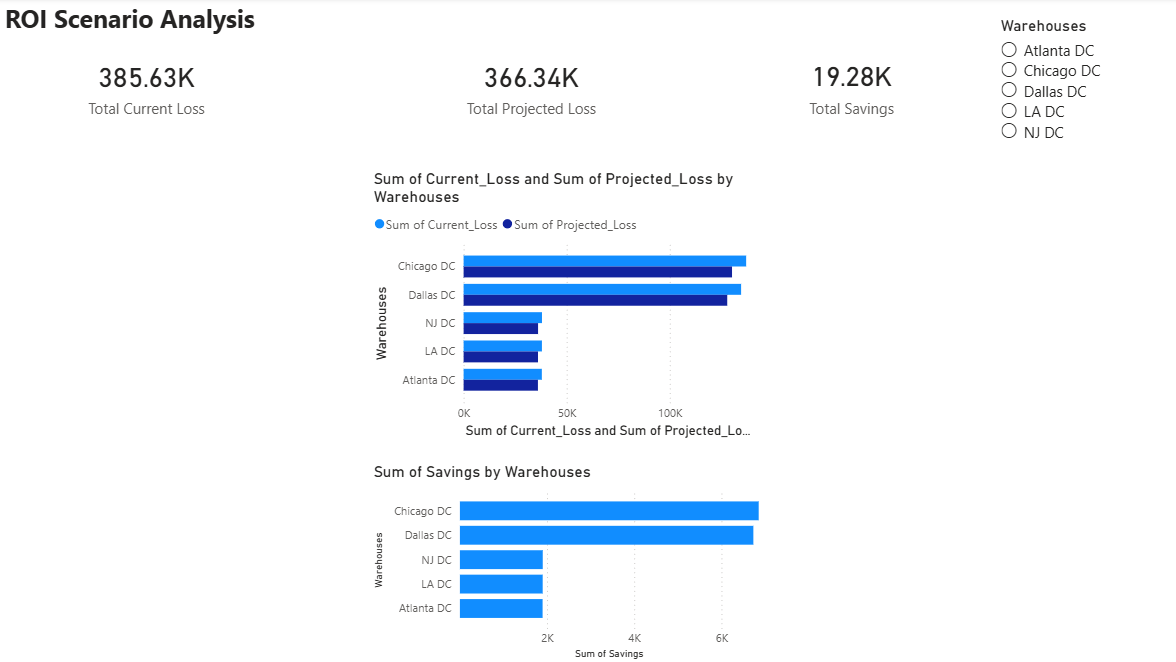

Layout of this report page (visuals, bound fields, positions):
{"tool":"powerbi","page":{"name":"ROI Scenario","canvas":[1280,720],"ordinal":4},"visuals":[{"type":"textbox","box":[9.7,0,280.1,50.2],"z":0},{"type":"card","fields":{"Values":["ROI_Data.Total Current Loss"]},"box":[63.1,50.2,208.9,90.7],"z":1000},{"type":"card","fields":{"Values":["ROI_Data.Total Projected Loss"]},"box":[464.7,50.2,236.4,90.7],"z":2000},{"type":"barChart","fields":{"Y":["Sum(ROI_Data.Current_Loss)","Sum(ROI_Data.Projected_Loss)"],"Category":["ROI_Data.Warehouses"]},"box":[408,186.2,432.3,294.7],"z":3000},{"type":"barChart","fields":{"Category":["ROI_Data.Warehouses"],"Y":["Sum(ROI_Data.Savings)"]},"box":[408,502,432.3,218.6],"z":4000},{"type":"card","fields":{"Values":["ROI_Data.Total Savings"]},"box":[824.2,37.2,208.9,115],"z":5000},{"type":"listSlicer","fields":{"Values":["ROI_Data.Warehouses"]},"box":[1084.9,21,195.9,212.1],"z":6000}]}

Visuals, with their boxes in screenshot pixels (x1, y1, x2, y2), scaled from the page's 1280x720 canvas onto the 1176x662 screenshot:
textbox: bbox=[9, 0, 266, 46]
card - ROI_Data.Total Current Loss: bbox=[58, 46, 250, 130]
card - ROI_Data.Total Projected Loss: bbox=[427, 46, 644, 130]
barChart - Sum(ROI_Data.Current_Loss) x Sum(ROI_Data.Projected_Loss): bbox=[375, 171, 772, 442]
barChart - ROI_Data.Warehouses x Sum(ROI_Data.Savings): bbox=[375, 462, 772, 661]
card - ROI_Data.Total Savings: bbox=[757, 34, 949, 140]
listSlicer - ROI_Data.Warehouses: bbox=[997, 19, 1175, 214]
